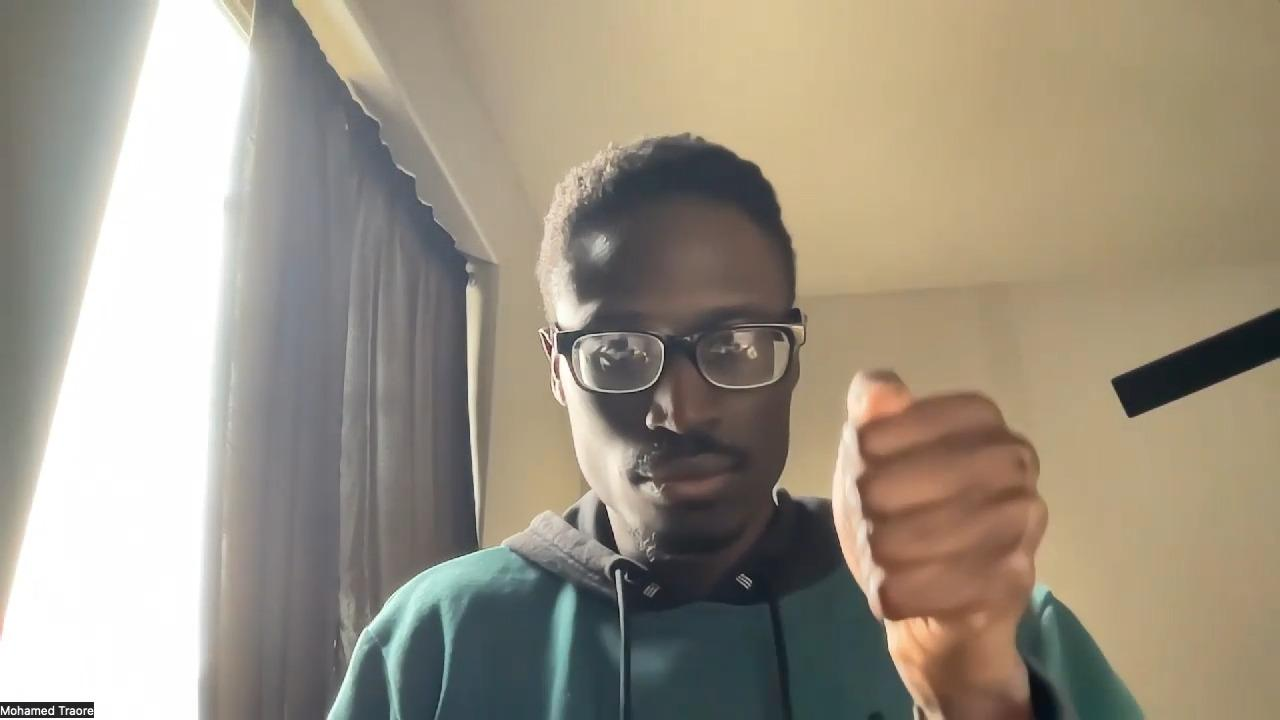Rock: (832, 367, 1048, 668)
